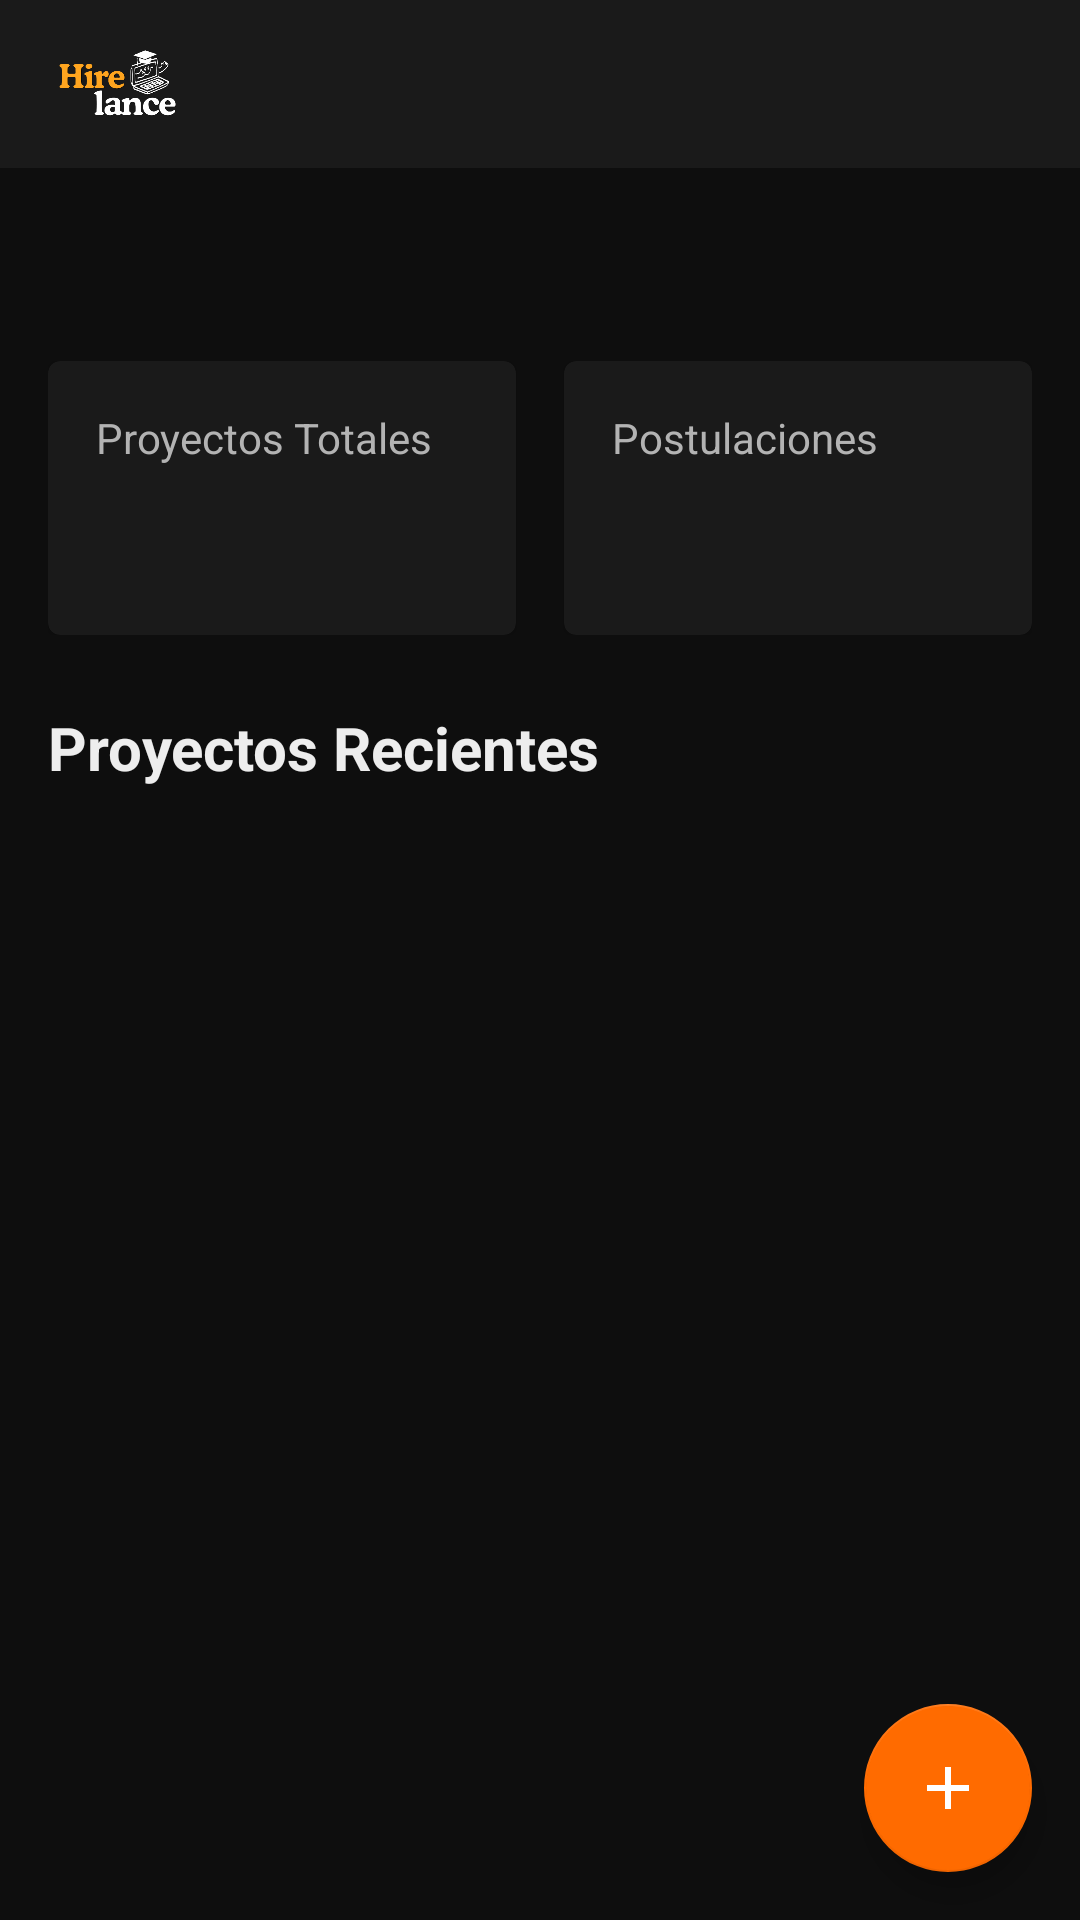

Where to tap for icons on this 1080px×1920px app screen, as (x,y):
add chip: (948,1788)
